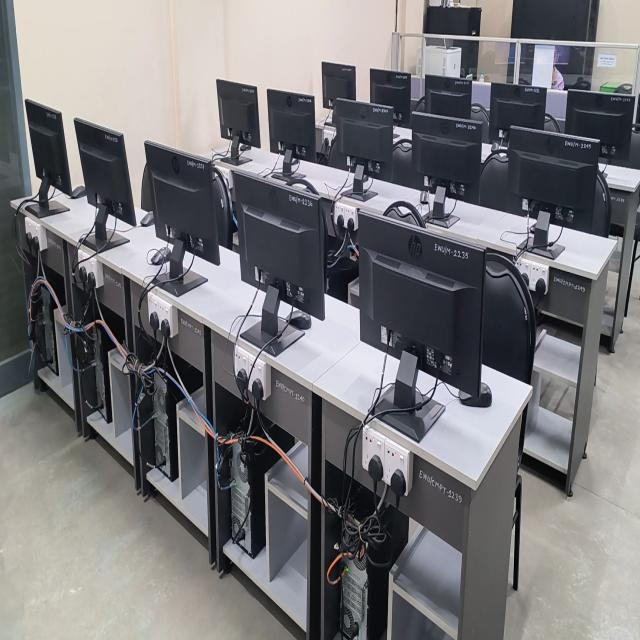Chair: (482, 248, 536, 383), (479, 152, 522, 214), (581, 169, 611, 237), (213, 169, 237, 249), (388, 138, 423, 188), (470, 103, 490, 142), (544, 113, 561, 132)
Cpu: (330, 494, 381, 639), (231, 445, 250, 550), (153, 373, 169, 471), (94, 330, 109, 421), (42, 289, 58, 373)
Monitor: (356, 212, 487, 399), (234, 171, 328, 319), (141, 140, 220, 282), (507, 126, 599, 232), (74, 118, 136, 248), (411, 111, 482, 204), (25, 99, 73, 206), (329, 98, 394, 177), (565, 89, 634, 159), (267, 89, 316, 162), (217, 80, 260, 161), (489, 82, 547, 140), (419, 74, 472, 119), (370, 69, 411, 126), (322, 62, 356, 108)
Mouse: (460, 383, 492, 407), (289, 310, 311, 330), (148, 247, 171, 265), (69, 185, 85, 199), (141, 212, 154, 226), (419, 191, 428, 203)
